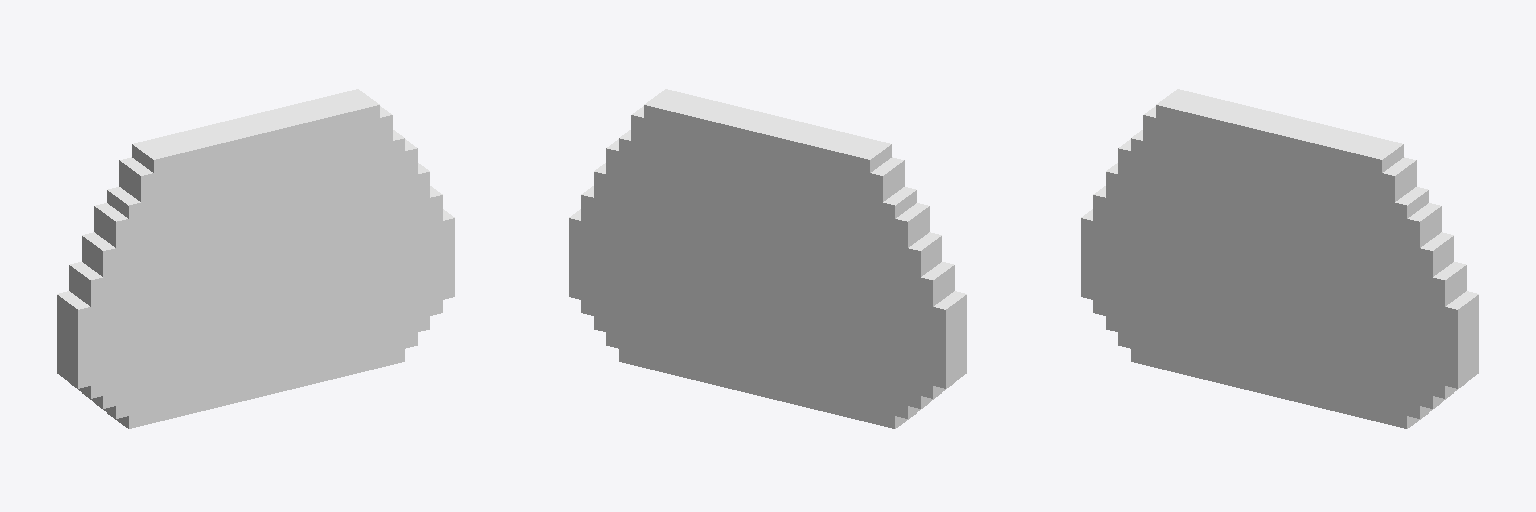
Rendered from underpants_woman.obj.
3 renders of one model, left to right at view 1: azimuth 30°, elevation 25°; view 2: azimuth 150°, elevation 25°; view 3: azimuth 330°, elevation 25°, orthographic.
Parts seen in each view (by area): view 1: object 1; view 2: object 1; view 3: object 1.
Part boxes in pixels (bbox=[...]): object 1: bbox=[57, 89, 454, 428]; object 1: bbox=[569, 89, 966, 428]; object 1: bbox=[1081, 89, 1478, 428].
Size of the model in its own units: 3 by 2 by 0.3.